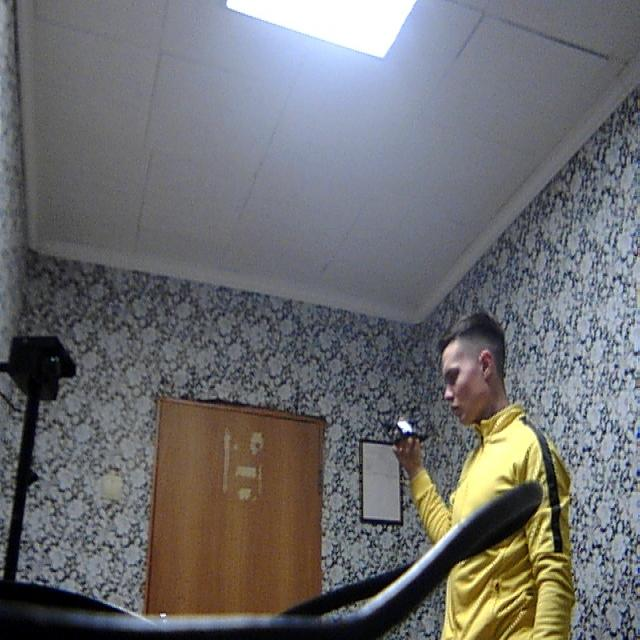drone: (374, 395, 439, 455)
